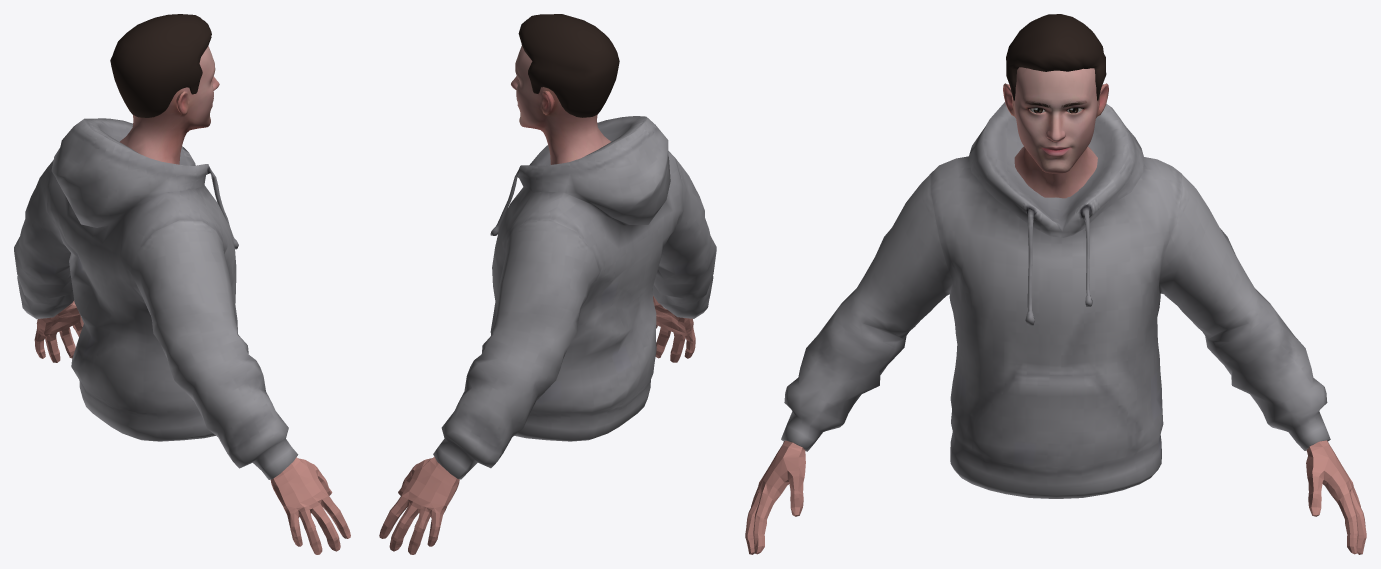
The model's file is avatar.gltf.
The picture shows the model from 3 angles, left to right: view 1: azimuth 30°, elevation 25°; view 2: azimuth 150°, elevation 25°; view 3: azimuth 270°, elevation 25°; orthographic projection. The views are drawn at different scales.
Visible parts, largest first — view 1: Wolf3D_Outfit_Top, Wolf3D_Hair, Wolf3D_Body, Wolf3D_Head; view 2: Wolf3D_Outfit_Top, Wolf3D_Hair, Wolf3D_Body, Wolf3D_Head; view 3: Wolf3D_Outfit_Top, Wolf3D_Head, Wolf3D_Body, Wolf3D_Hair.
Boxes of the visible parts, x1=… form: Wolf3D_Outfit_Top: x1=14, y1=118, x2=298, y2=479; Wolf3D_Hair: x1=110, y1=14, x2=211, y2=117; Wolf3D_Body: x1=34, y1=300, x2=350, y2=554; Wolf3D_Head: x1=120, y1=46, x2=219, y2=164; Wolf3D_Outfit_Top: x1=433, y1=116, x2=716, y2=479; Wolf3D_Hair: x1=518, y1=14, x2=619, y2=117; Wolf3D_Body: x1=379, y1=296, x2=695, y2=554; Wolf3D_Head: x1=511, y1=46, x2=610, y2=164; Wolf3D_Outfit_Top: x1=781, y1=102, x2=1330, y2=498; Wolf3D_Head: x1=1003, y1=67, x2=1108, y2=198; Wolf3D_Body: x1=745, y1=440, x2=1366, y2=554; Wolf3D_Hair: x1=1006, y1=14, x2=1106, y2=100.
Size of the model in its own units: 0.3676 by 0.9686 by 1.06.
Materials: 7 (7 with a texture image).
